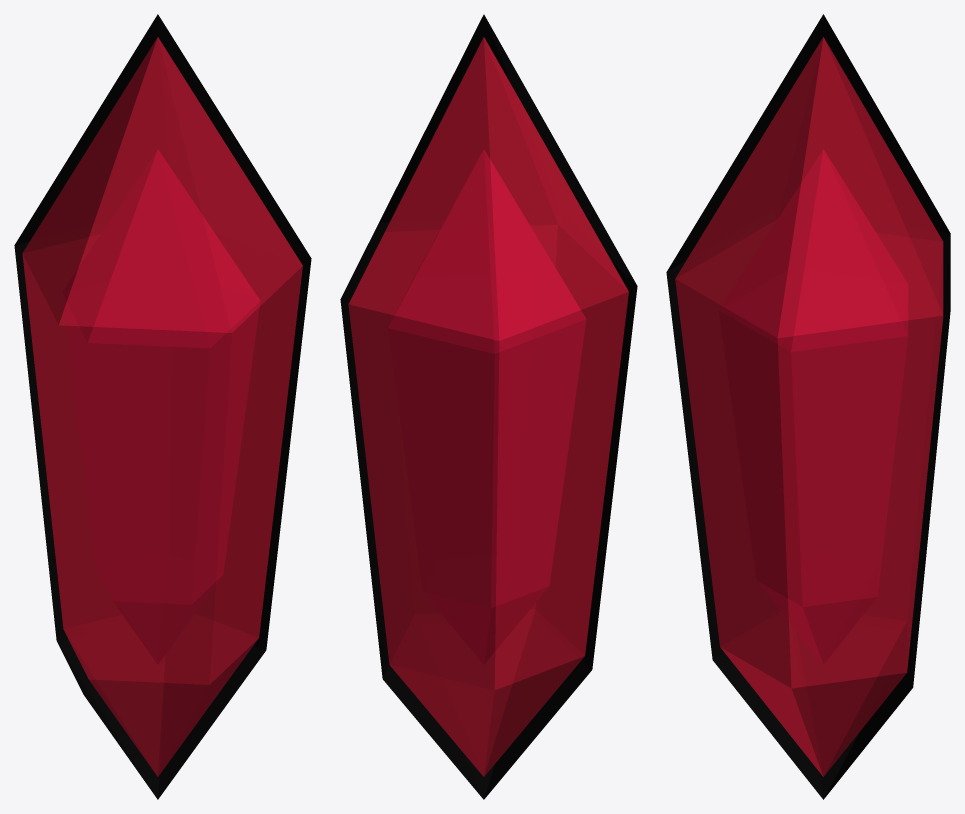
File: hit_switch.fbx
3 renders of one model, left to right at view 1: azimuth 30°, elevation 25°; view 2: azimuth 150°, elevation 25°; view 3: azimuth 270°, elevation 25°, orthographic.
Visible parts, largest first — view 1: hit_switch, hit_switch_inside, hit_switch_outline; view 2: hit_switch, hit_switch_inside, hit_switch_outline; view 3: hit_switch, hit_switch_inside, hit_switch_outline.
Part boxes in pixels (<box>): hit_switch: <box>22,37,302,776</box>; hit_switch_inside: <box>62,149,259,664</box>; hit_switch_outline: <box>14,14,311,799</box>; hit_switch: <box>348,37,628,776</box>; hit_switch_inside: <box>388,149,585,664</box>; hit_switch_outline: <box>340,14,637,799</box>; hit_switch: <box>675,37,943,776</box>; hit_switch_inside: <box>719,149,907,664</box>; hit_switch_outline: <box>666,14,950,799</box>.
Size of the model in its own units: 255 by 739 by 242.
